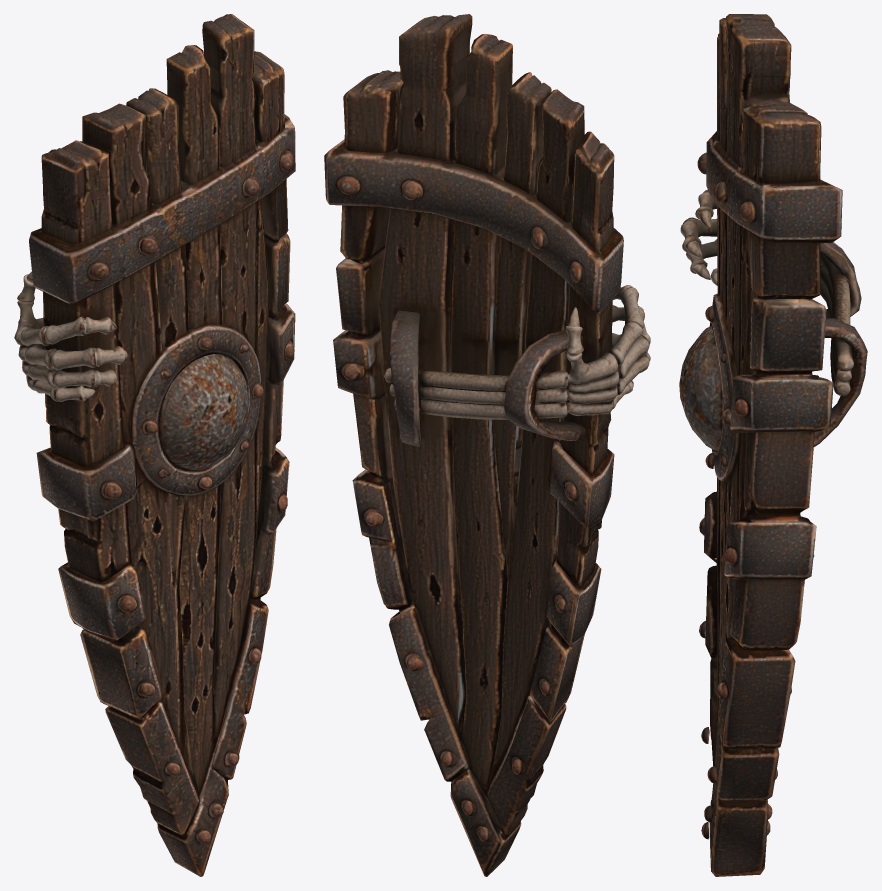
The model's file is skeleton_hand_l.glb.
3 renders of one model, left to right at view 1: azimuth 30°, elevation 25°; view 2: azimuth 150°, elevation 25°; view 3: azimuth 270°, elevation 25°, orthographic. The views are drawn at different scales.
Parts seen in each view (by area): view 1: tripo_node_e3158637-c6f6-4675-a802-fcbcf0f51010; view 2: tripo_node_e3158637-c6f6-4675-a802-fcbcf0f51010; view 3: tripo_node_e3158637-c6f6-4675-a802-fcbcf0f51010.
Part boxes in pixels (left/top/right/bottom): tripo_node_e3158637-c6f6-4675-a802-fcbcf0f51010: left=14, top=14, right=295, bottom=876; tripo_node_e3158637-c6f6-4675-a802-fcbcf0f51010: left=324, top=14, right=650, bottom=876; tripo_node_e3158637-c6f6-4675-a802-fcbcf0f51010: left=679, top=14, right=867, bottom=876.
Bounding box in the file's own units: 0.3384 × 0.9995 × 0.1948.
1 material, 1 textured.
